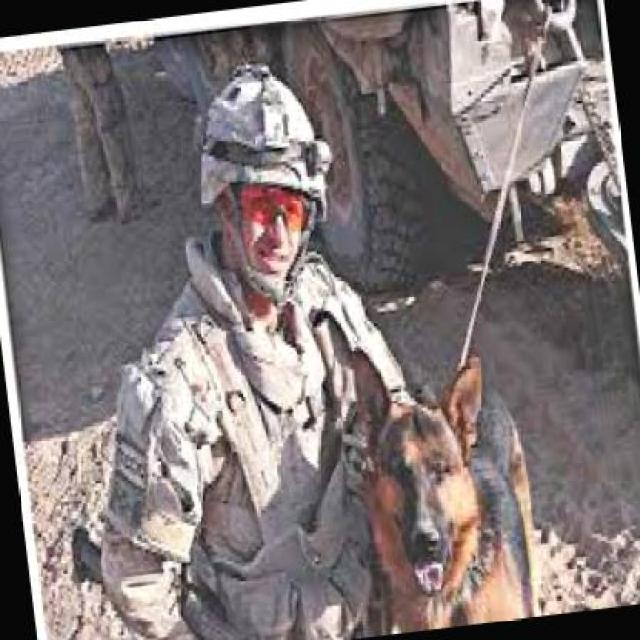MIL_Pax: (43, 52, 409, 638), (49, 22, 151, 218)
